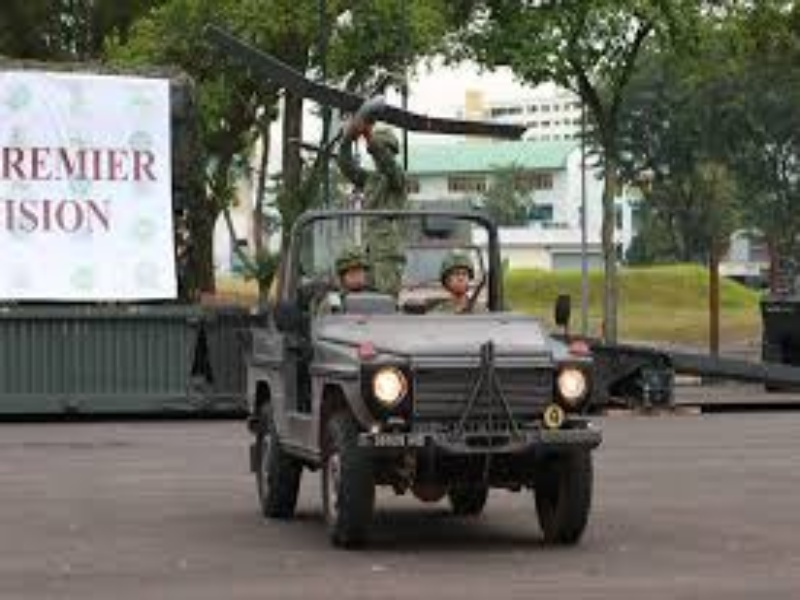jeep: (245, 208, 606, 554)
